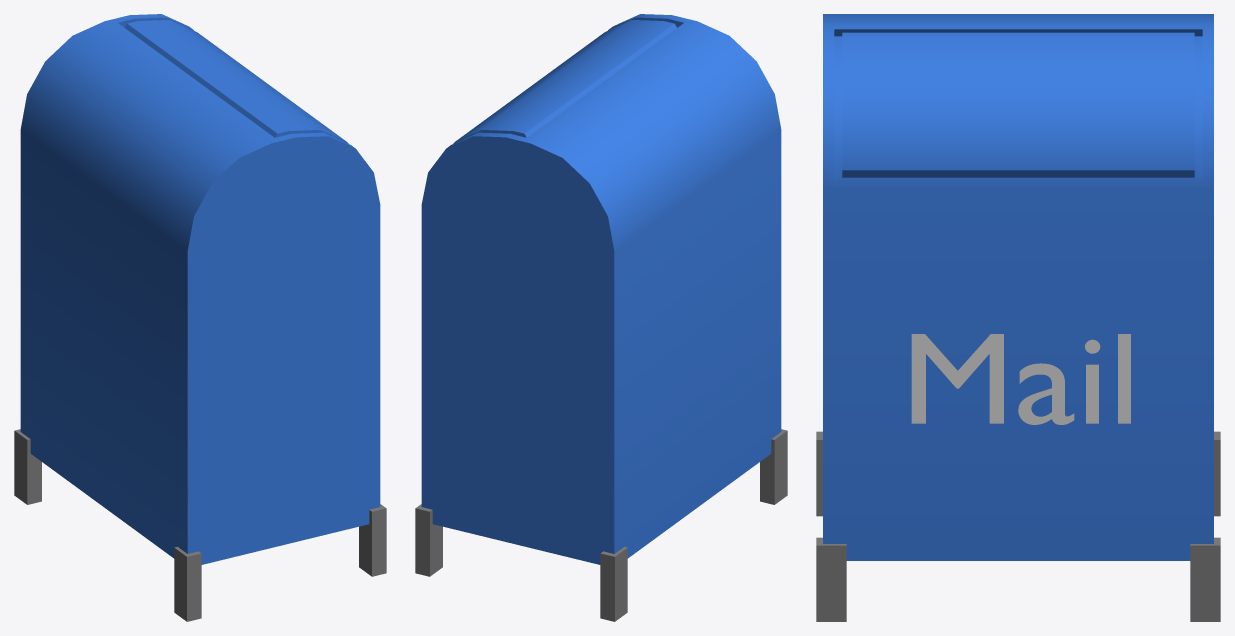
File: P_Mailbox.dae
The picture shows the model from 3 angles, left to right: view 1: azimuth 30°, elevation 25°; view 2: azimuth 150°, elevation 25°; view 3: azimuth 270°, elevation 25°; orthographic projection. The views are drawn at different scales.
Parts seen in each view (by area): view 1: Mailbox; view 2: Mailbox; view 3: Mailbox.
Part boxes in pixels (<box>): Mailbox: <box>14,14,386,621</box>; Mailbox: <box>415,14,787,621</box>; Mailbox: <box>816,14,1220,621</box>.
Bounding box in the file's own units: 0.4757 × 0.7135 × 1.04.
